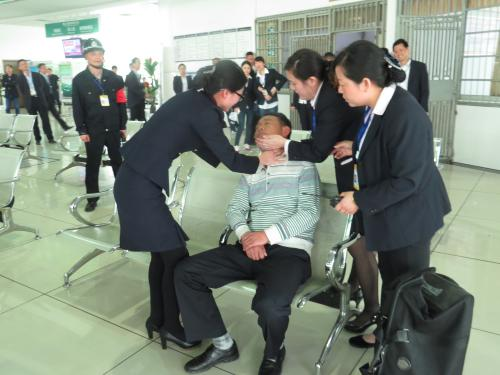10+: (1, 34, 453, 372)
